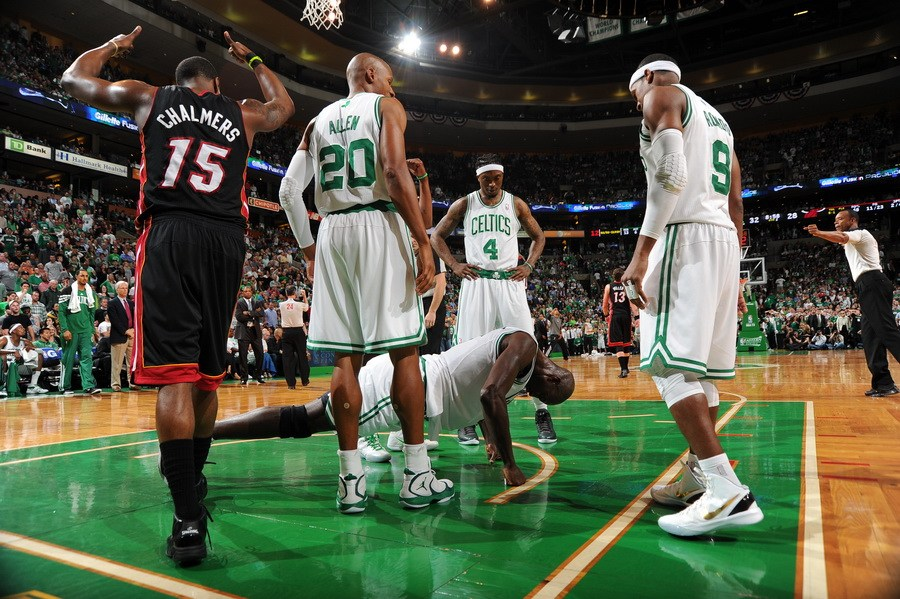10+: (2, 1, 896, 554)
